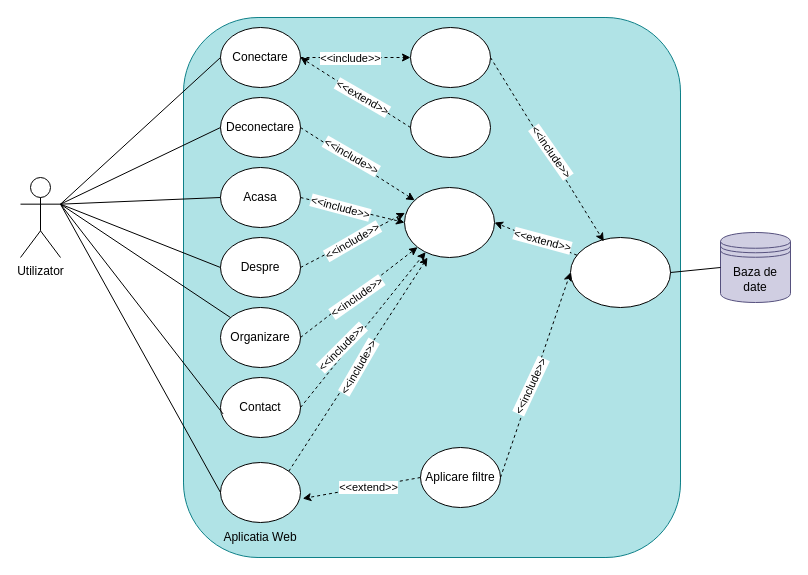
This 808x575 diagram has some shape labels left out. Each missing label, with the centre of its shape:
"Afisare eroare" goes at pixel 450 127.
"Afisare pagina specifica" goes at pixel 449 222.
"Interogare/ Actualizare DB" goes at pixel 620 272.
"Statistici" goes at pixel 260 492.
"Verificare utilizator" goes at pixel 450 57.
